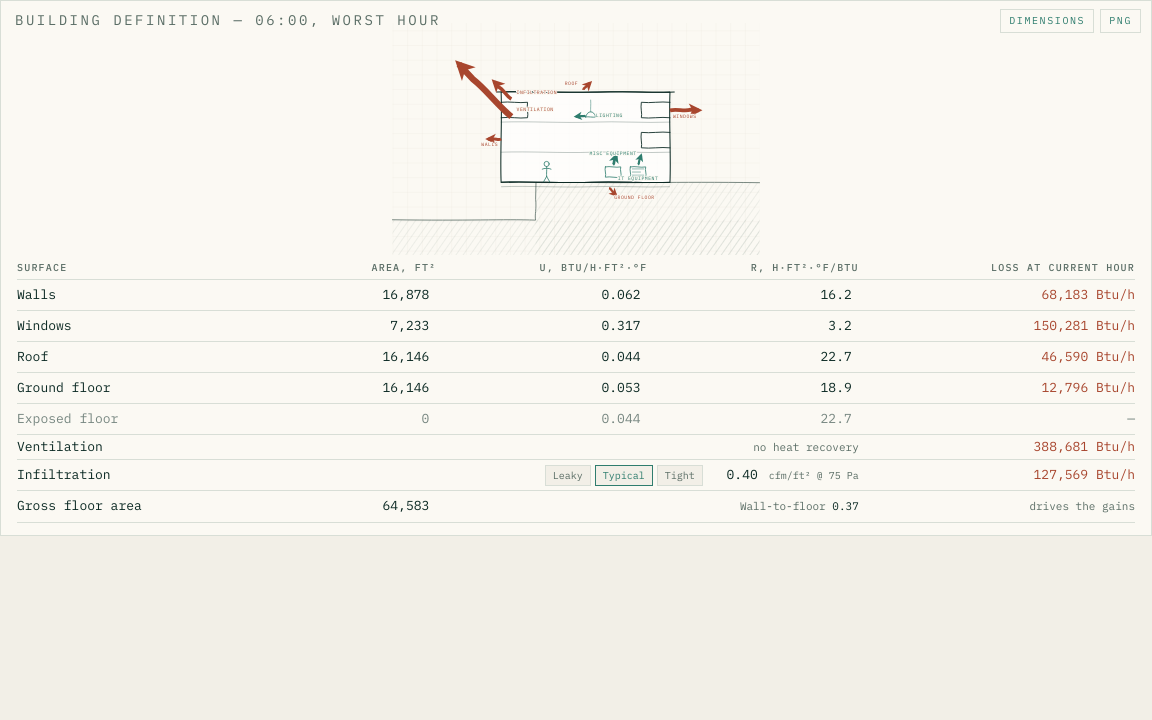
the dimensions drawer › shuts again on the same handle
Click the button "Dimensions".
click(1047, 21)  # box [1000, 9, 1094, 32]
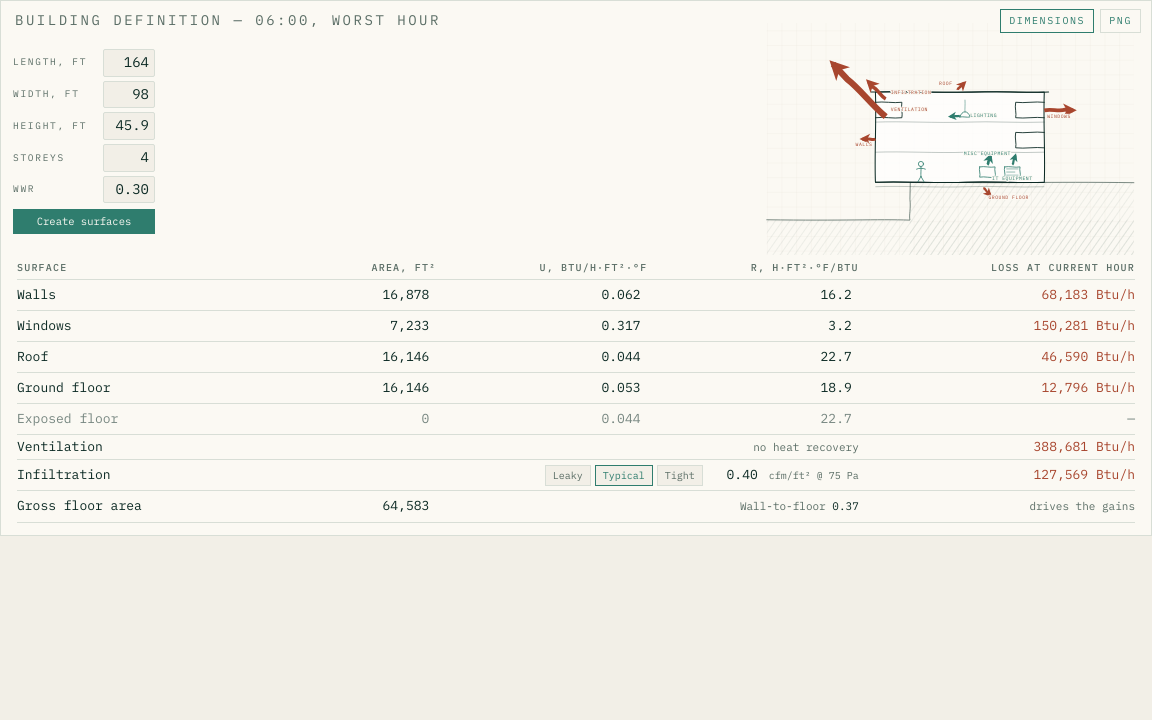
Click the button "Dimensions".
click(1047, 21)  # box [1000, 9, 1094, 32]
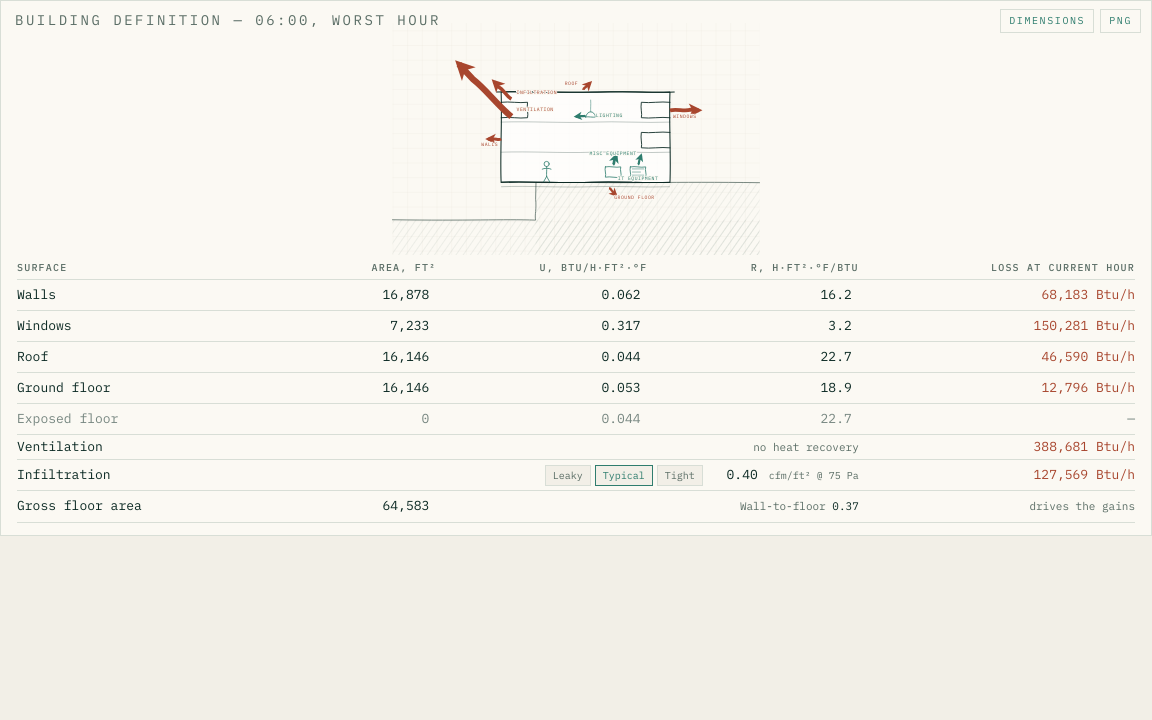
expect the button "Dimensions" is collapsed: met, box [1000, 9, 1094, 32]
